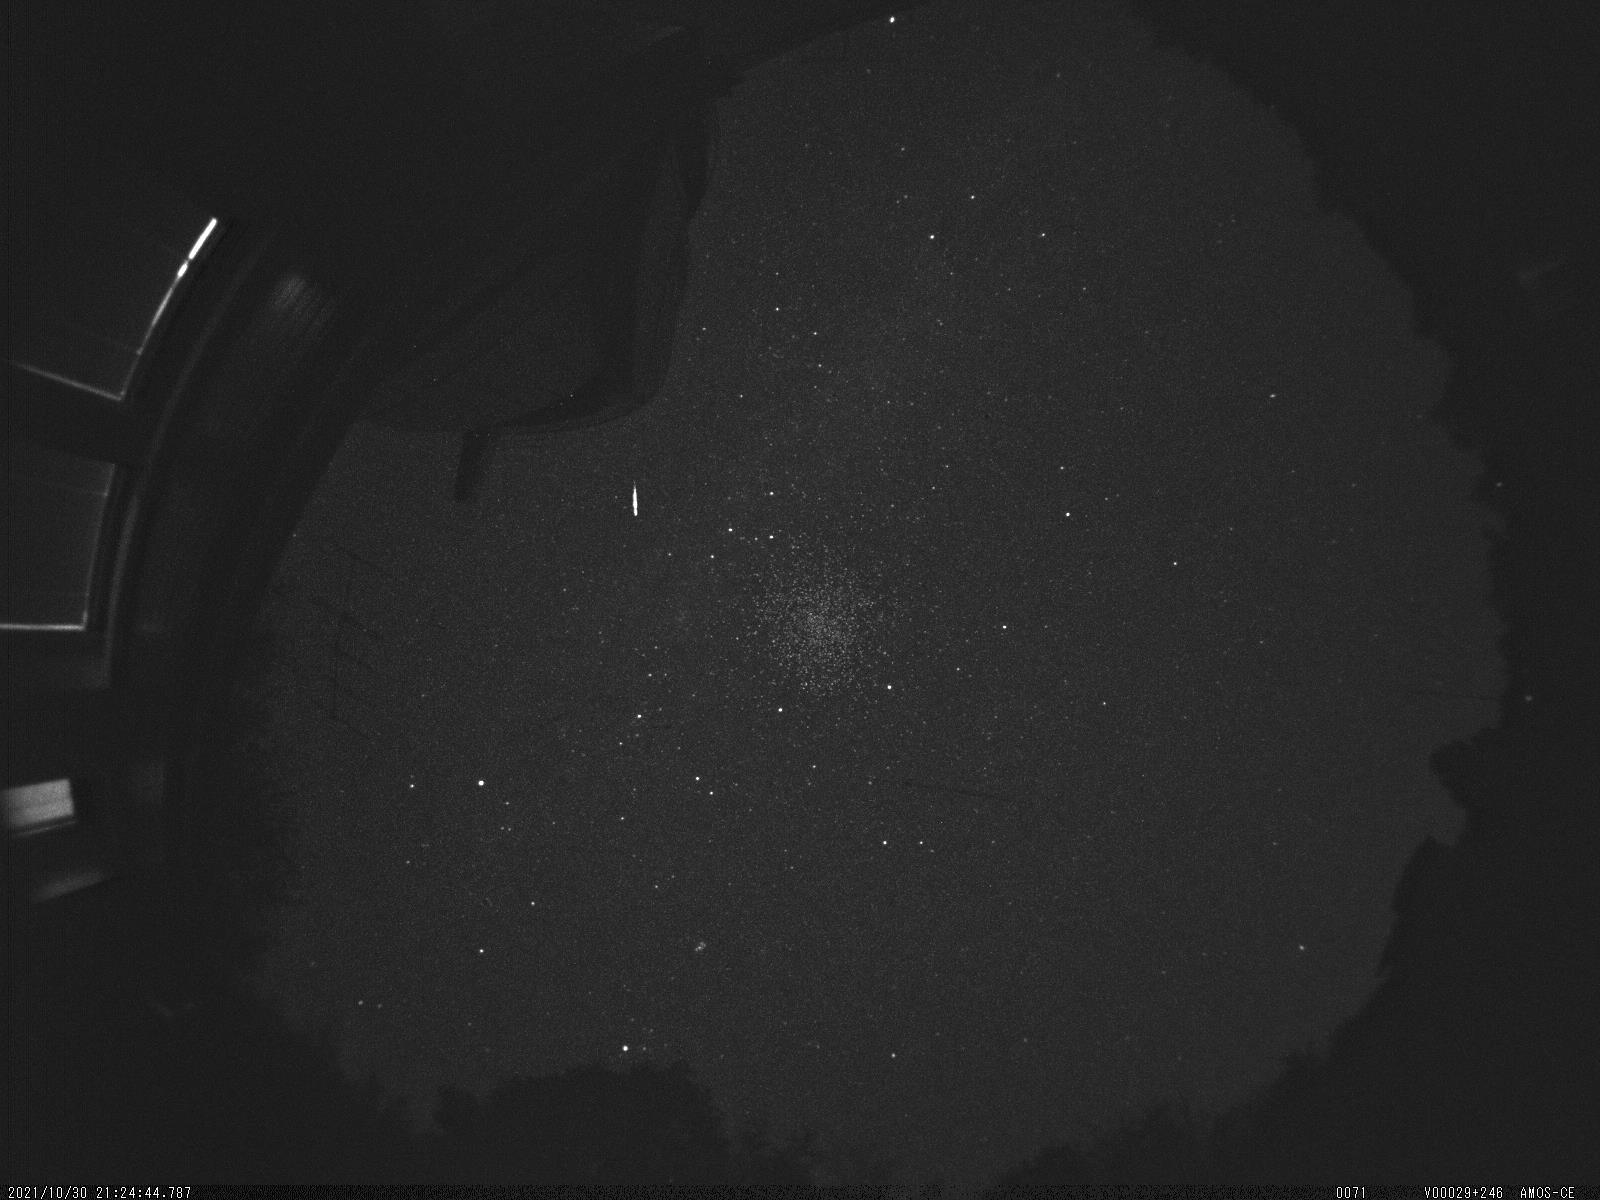Meteor: (622, 479, 650, 531)
